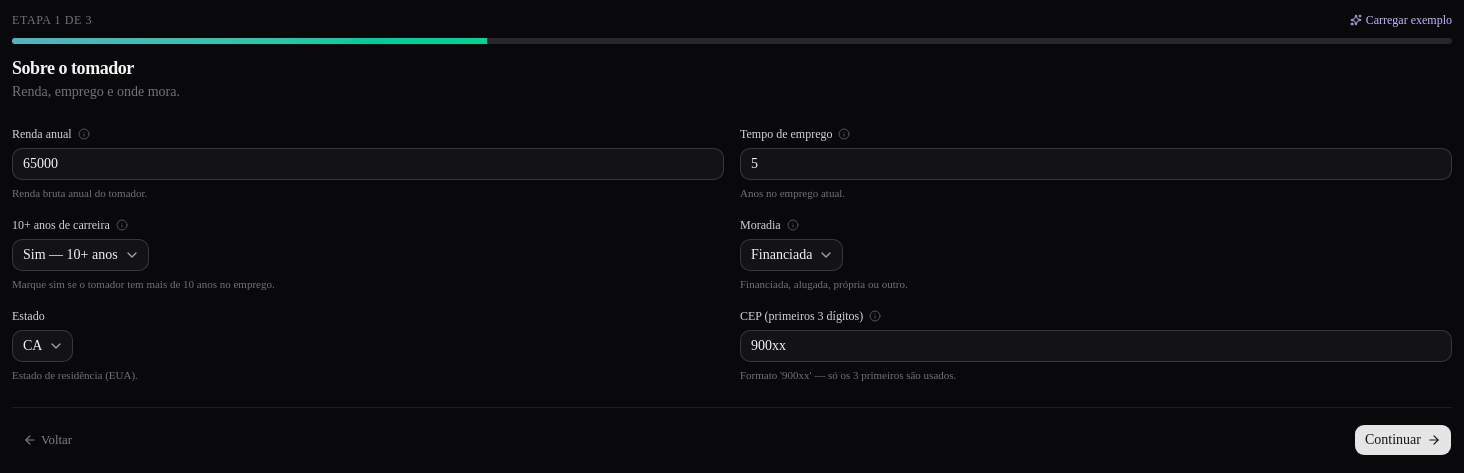
Scenario: LoanWizard › 'Carregar exemplo' is only shown on step 1
Expected: the button "Carregar exemplo" is shown, [1350,12,1452,28]
Click the button "Continuar" at [1403, 440], box [1354,424,1452,456]
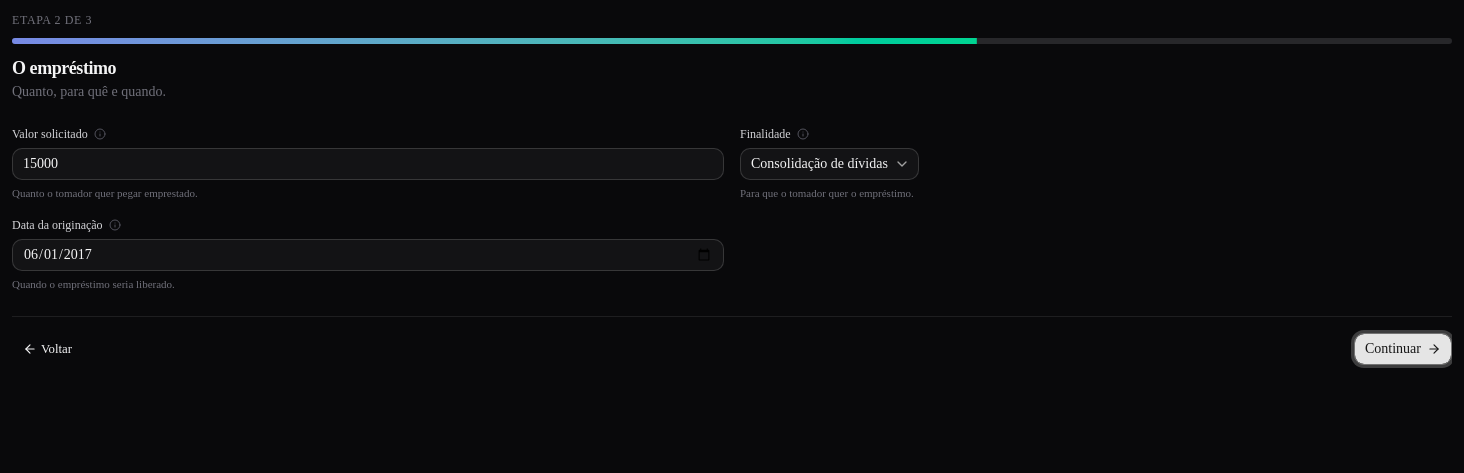
Expected: the text "Etapa 2 de 3" is shown, [12,12,92,28]
Expected: the button "Carregar exemplo" is gone
